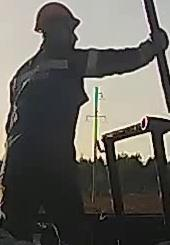gloves: (133, 28, 169, 60)
helmet: (32, 1, 82, 33)
vest: (8, 47, 98, 153)
